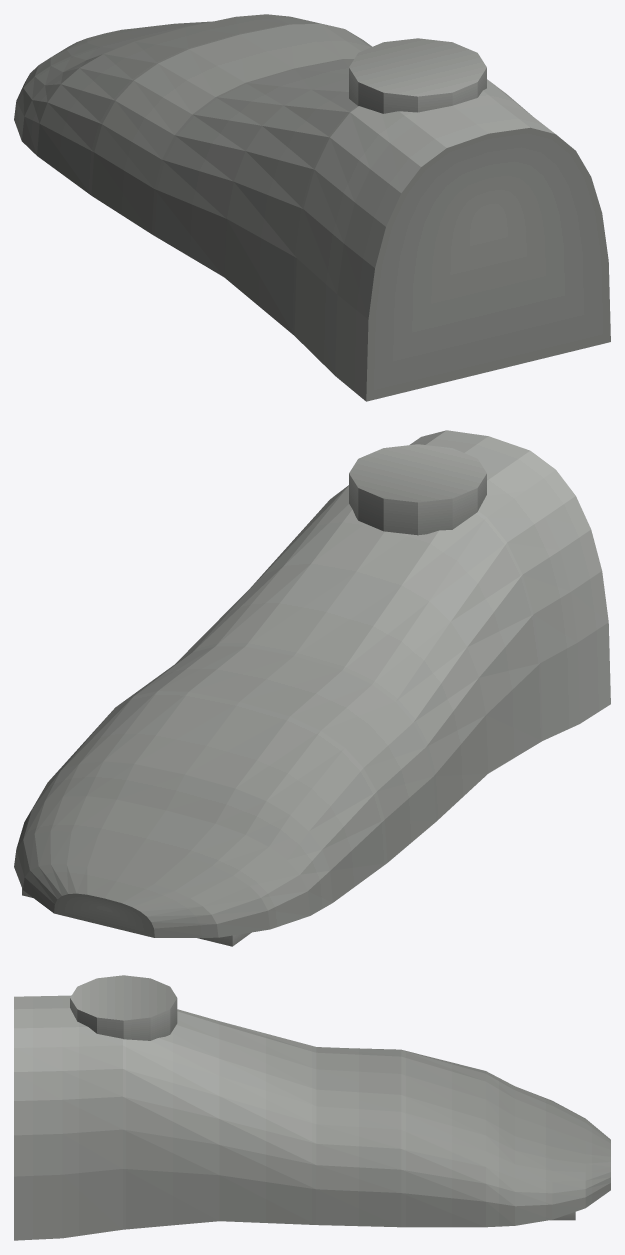
File: streetlight_aeacmnp.obj
3 renders of one model, top to bottom at view 1: azimuth 30°, elevation 25°; view 2: azimuth 150°, elevation 25°; view 3: azimuth 270°, elevation 25°, orthographic. The views are drawn at different scales.
Parts seen in each view (by area): view 1: fixture; view 2: fixture; view 3: fixture.
Boxes of the visible parts, x1,y1,x2,y2 form: fixture: (14,14,610,401); fixture: (14,430,610,946); fixture: (14,975,610,1240).
Size of the model in its own units: 0.325 by 0.2652 by 0.7308.
